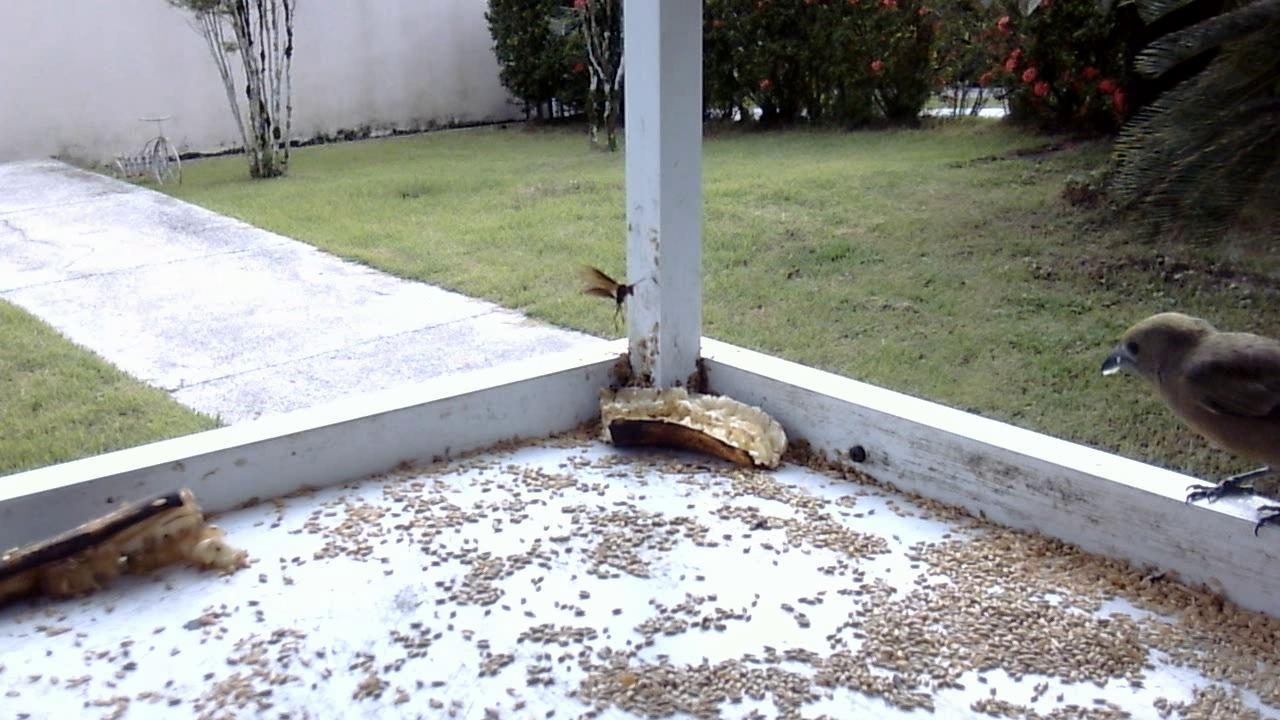sanhaco_do_coqueiro: (1095, 300, 1280, 537)
